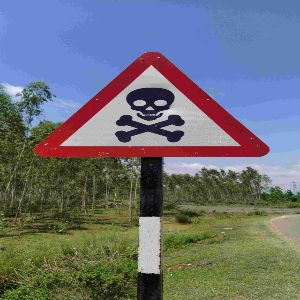Accident prone area: (27, 44, 277, 169)
